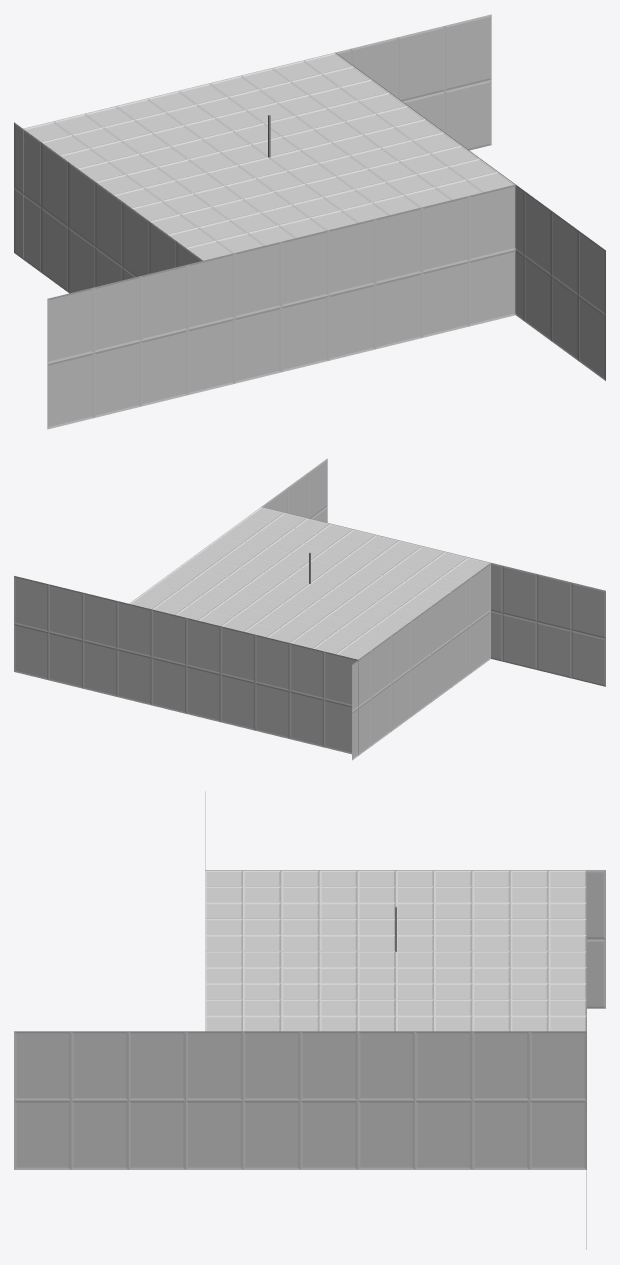
Rendered from SM_Room_Hub.fbx.
3 views of the same model, one above another, from view 1: azimuth 30°, elevation 25°; view 2: azimuth 150°, elevation 25°; view 3: azimuth 270°, elevation 25° (orthographic). The views are drawn at different scales.
Visible parts, largest first — view 1: SM_RubberPanels_Tall.001, SM_RubberPanels_Small, SM_RubberPanels_Tall.002, SM_RubberPanels_Tall, SM_RubberPanels_Tall.003; view 2: SM_RubberPanels_Tall, SM_RubberPanels_Small, SM_RubberPanels_Tall.002, SM_RubberPanels_Tall.001, SM_RubberPanels_Tall.003; view 3: SM_RubberPanels_Tall.003, SM_RubberPanels_Small, SM_RubberPanels_Tall.002.
Boxes of the visible parts, x1,y1,x2,y2 form: SM_RubberPanels_Tall.001: [47, 184, 515, 429]; SM_RubberPanels_Small: [24, 53, 514, 260]; SM_RubberPanels_Tall.002: [14, 122, 202, 293]; SM_RubberPanels_Tall: [23, 14, 491, 258]; SM_RubberPanels_Tall.003: [335, 52, 605, 380]; SM_RubberPanels_Tall: [14, 576, 358, 755]; SM_RubberPanels_Small: [129, 507, 490, 659]; SM_RubberPanels_Tall.002: [352, 563, 490, 760]; SM_RubberPanels_Tall.001: [261, 506, 605, 686]; SM_RubberPanels_Tall.003: [129, 458, 327, 603]; SM_RubberPanels_Tall.003: [14, 1031, 586, 1169]; SM_RubberPanels_Small: [205, 870, 586, 1031]; SM_RubberPanels_Tall.002: [205, 870, 605, 1008].
Size of the model in its own units: 8000 by 2104 by 6200.
